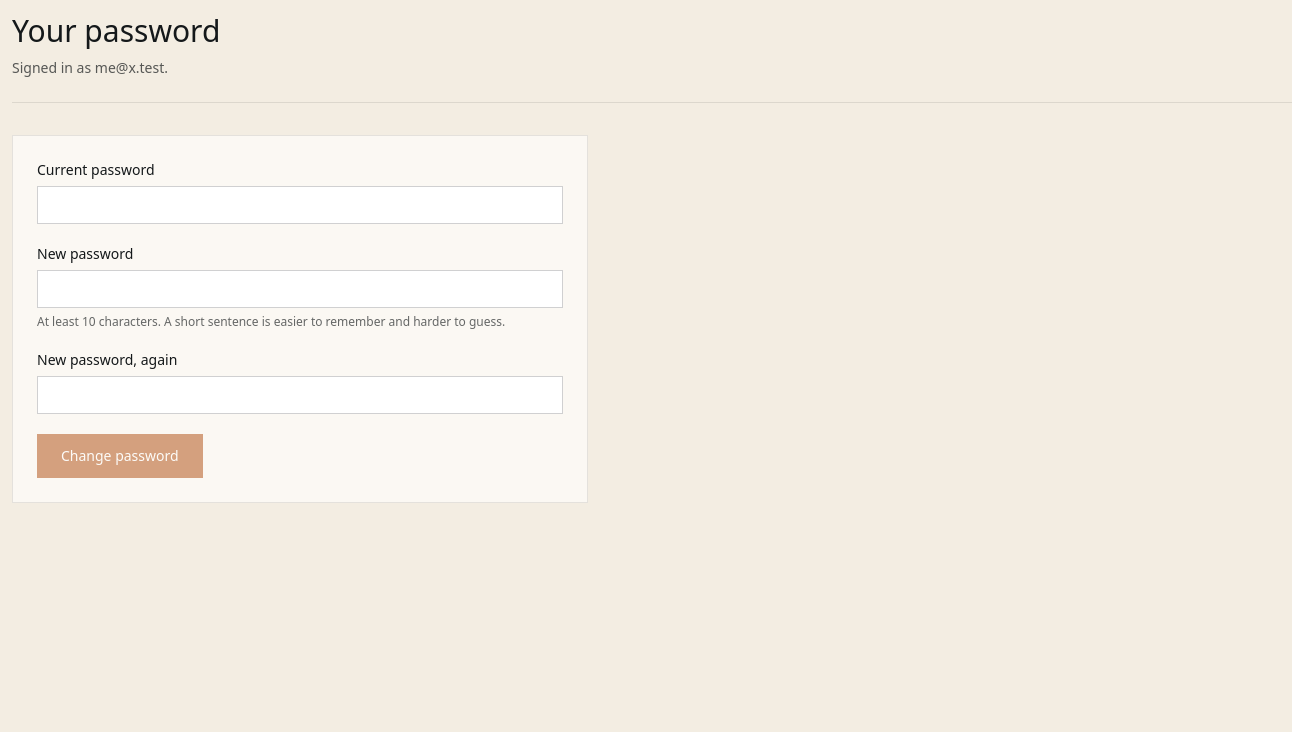
AccountForm › changes the password and says the other devices are signed out
This screenshot has width=1292, height=732.
Type "old-password" into the password field labelled "Current password" at (300, 204), box top-left (37, 186), bottom-right (563, 224)
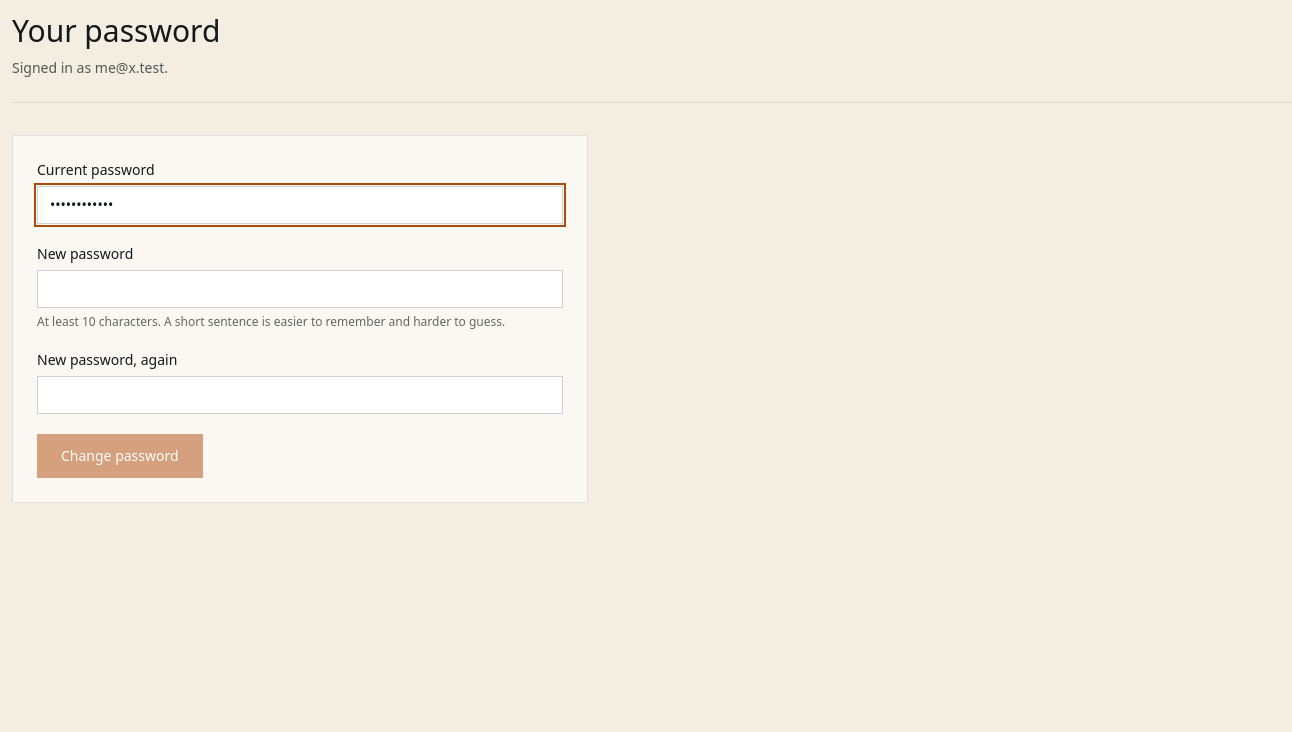
Type "a-new-password-1" into the password field labelled "New password" at (300, 288), box top-left (37, 270), bottom-right (563, 308)
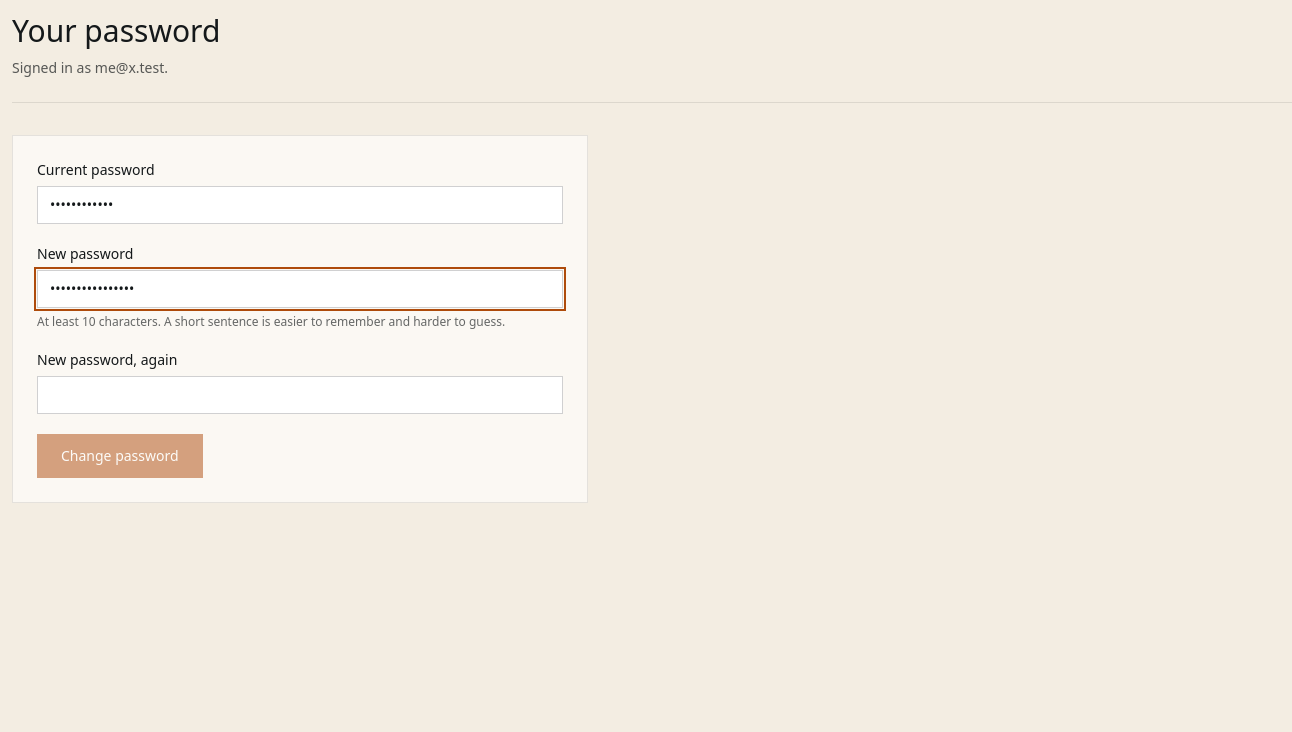
Type "a-new-password-1" into the password field labelled "New password, again" at (300, 394), box top-left (37, 376), bottom-right (563, 414)
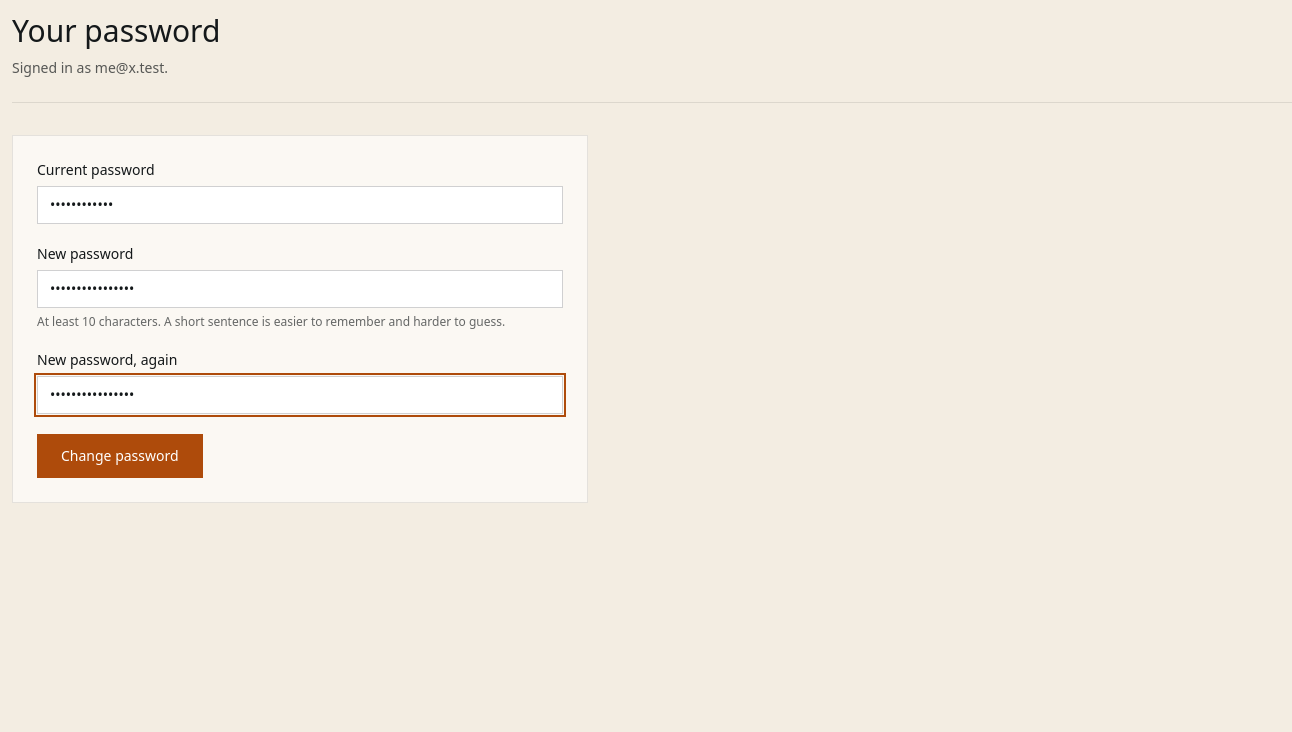
Click the button "Change password" at (120, 456), box top-left (37, 434), bottom-right (203, 478)
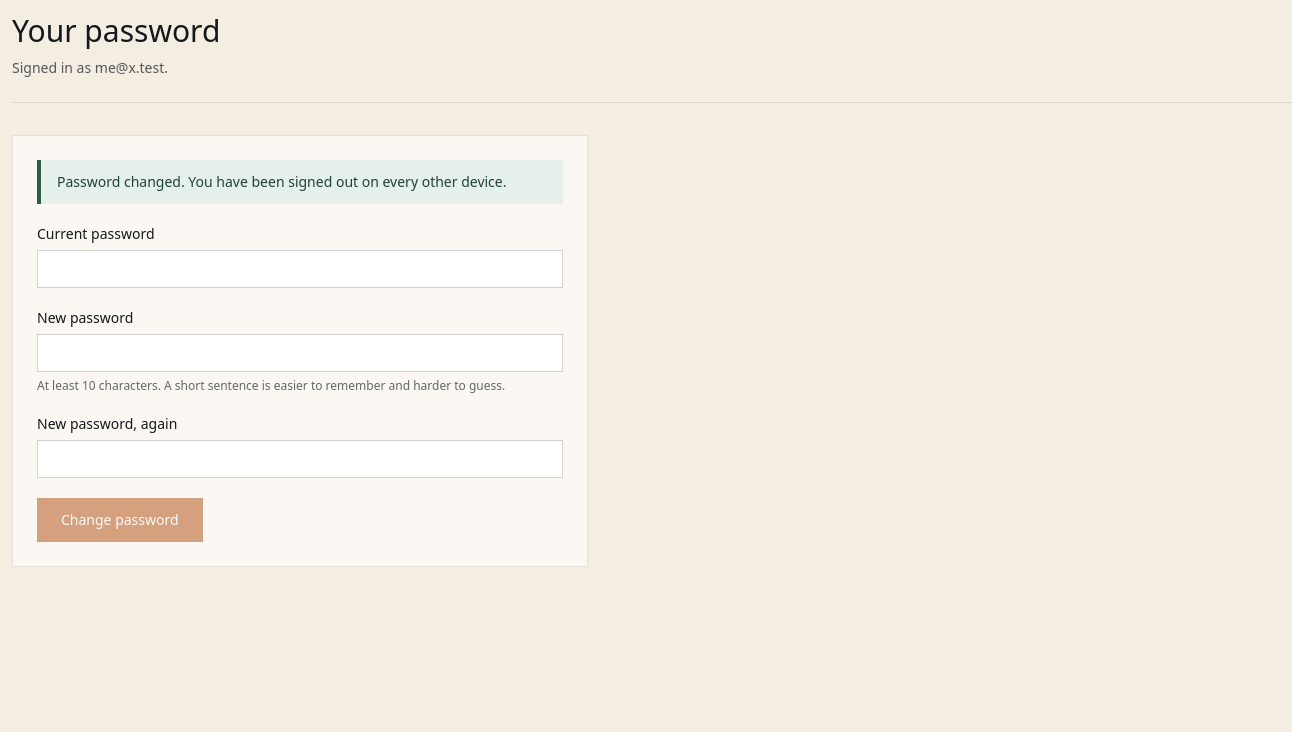
expect the message shows "signed out on every other device": met, box top-left (57, 172), bottom-right (506, 190)
